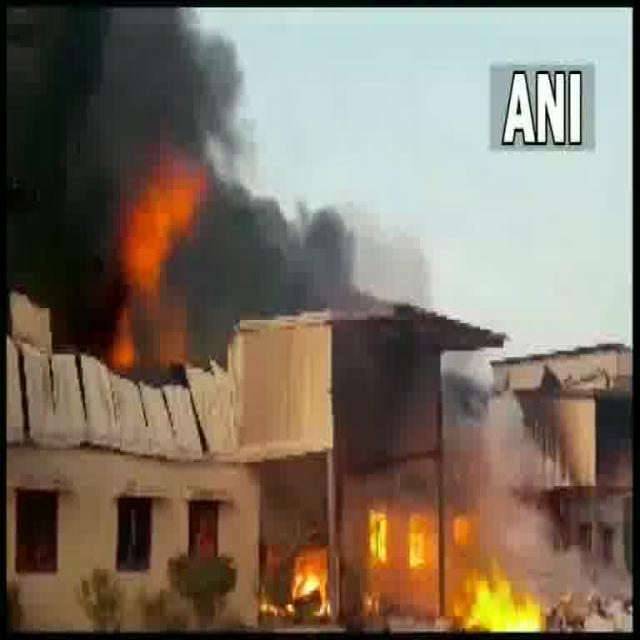smoke: (30, 23, 170, 170), (193, 232, 328, 308)
